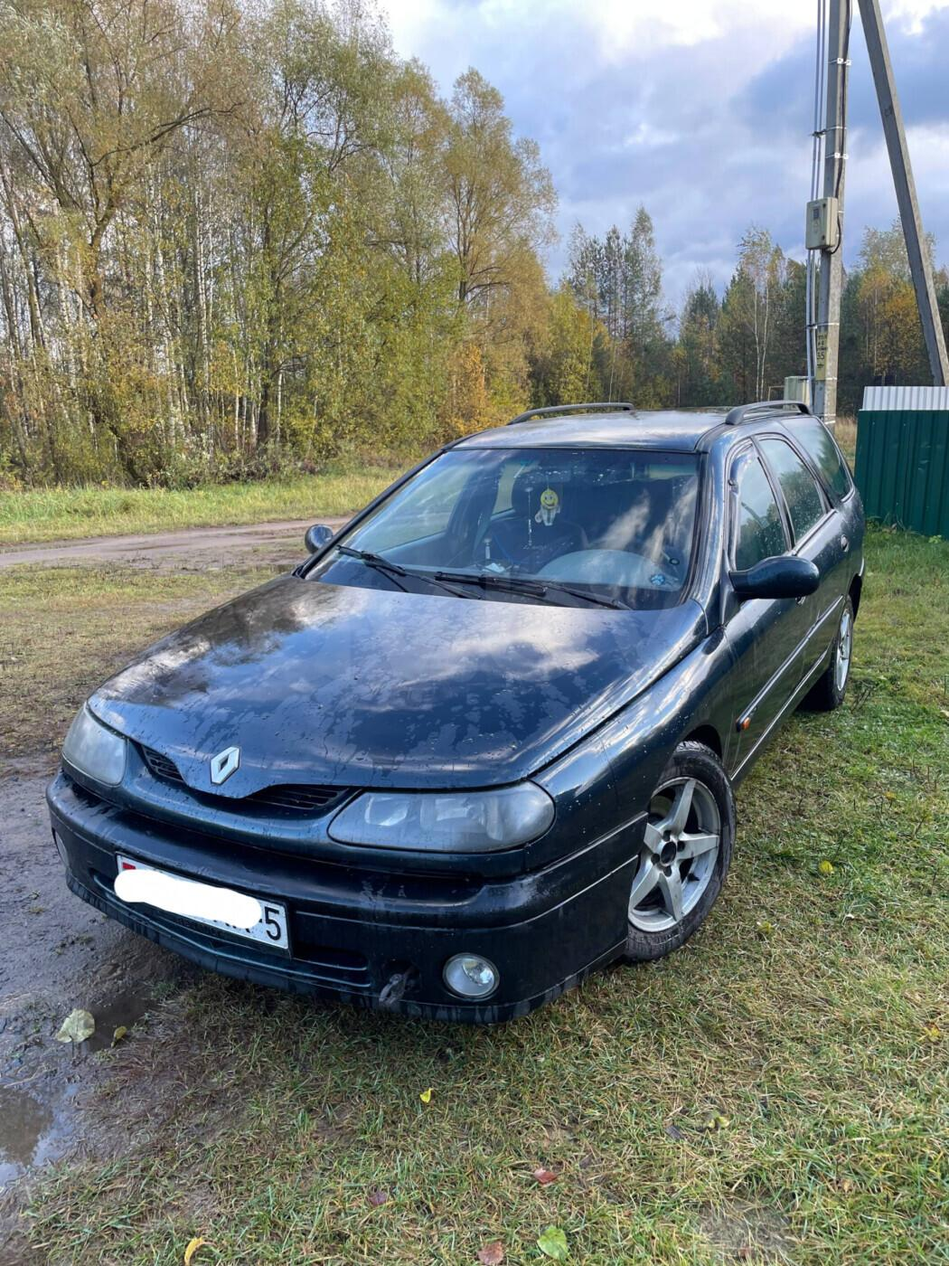Laguna_1998-2001: (43, 402, 871, 1033)
